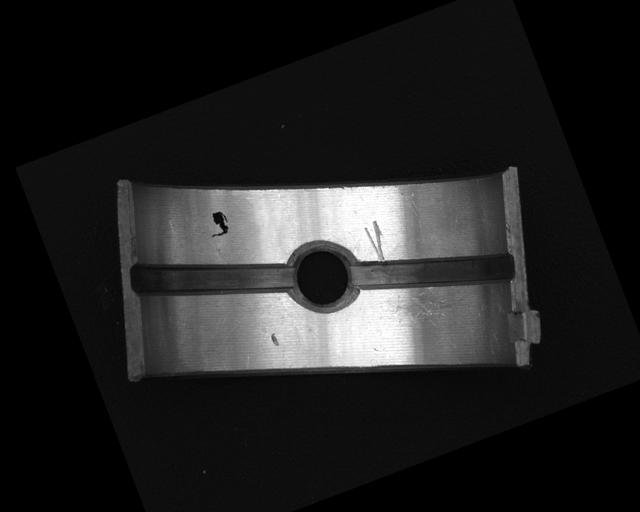blot: (203, 207, 233, 240)
bruise: (268, 330, 281, 348)
gap: (126, 215, 298, 341), (348, 211, 518, 331)
hole: (277, 232, 367, 322)
nick: (362, 218, 392, 265)
scratch: (378, 268, 484, 348)
